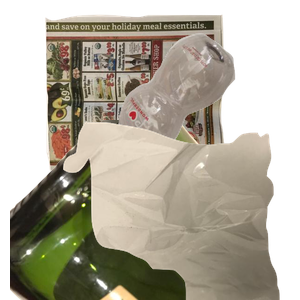glass: (10, 120, 250, 300)
paper: (42, 12, 260, 185)
plastic: (99, 31, 300, 189)
trash: (61, 120, 300, 300)
